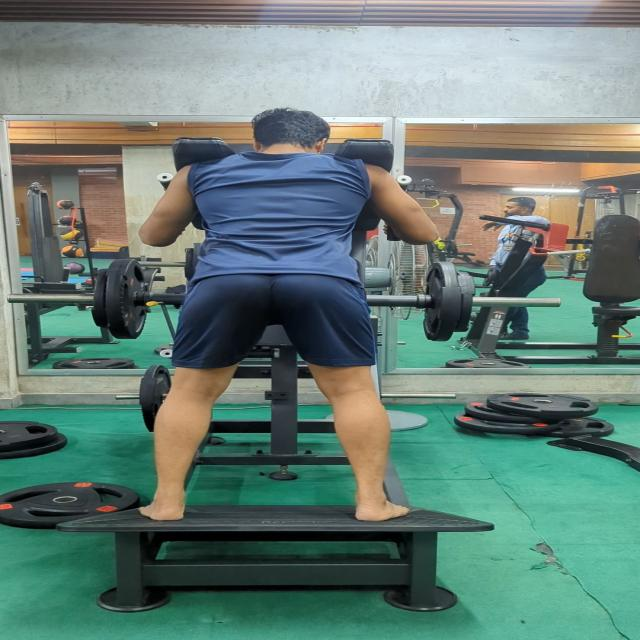Normal_SquatsWithBarbell: (115, 103, 470, 527)
